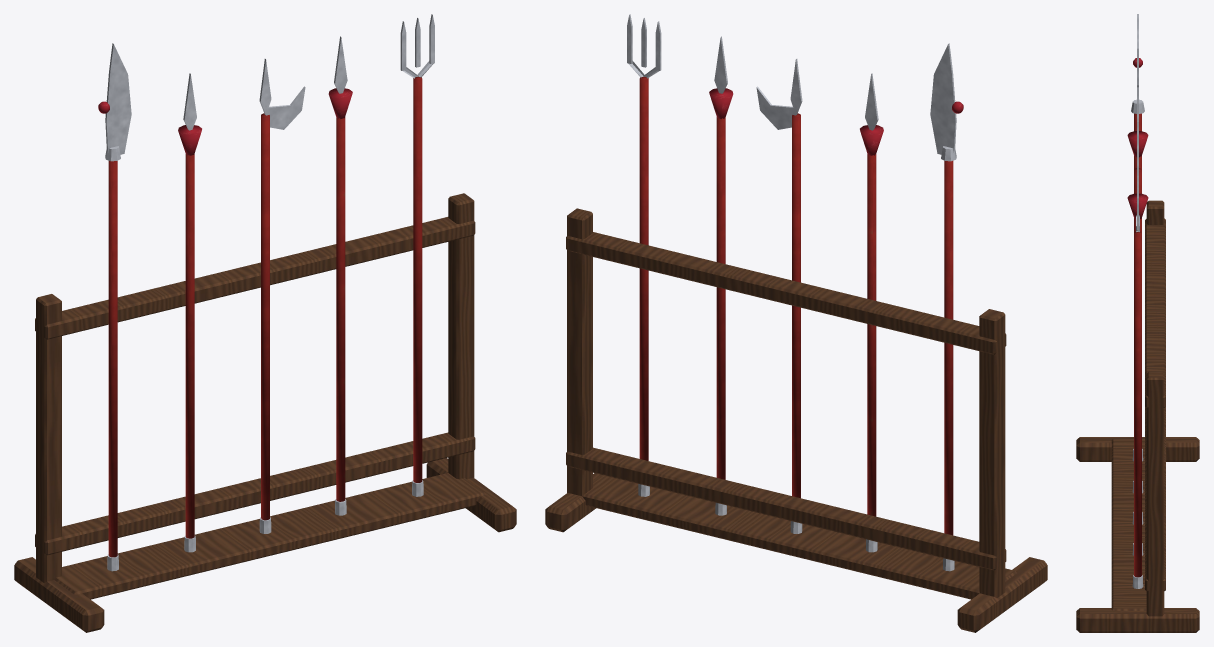
The model's file is halberd_rack.glb.
The picture shows the model from 3 angles, left to right: view 1: azimuth 30°, elevation 25°; view 2: azimuth 150°, elevation 25°; view 3: azimuth 270°, elevation 25°; orthographic projection. The views are drawn at different scales.
Visible parts, largest first — view 1: RackTimber, Shafts, Blades, Tassels; view 2: RackTimber, Shafts, Blades, Tassels; view 3: RackTimber, Shafts, Blades, Tassels.
Part boxes in pixels (x1,y1,x2,y2): RackTimber: (14, 193, 516, 632); Shafts: (108, 76, 422, 557); Blades: (105, 14, 434, 571); Tassels: (98, 88, 352, 155); RackTimber: (545, 208, 1047, 632); Shafts: (639, 76, 953, 535); Blades: (627, 14, 956, 571); Tassels: (709, 88, 963, 155); RackTimber: (1076, 200, 1199, 632); Shafts: (1134, 113, 1141, 577); Blades: (1131, 14, 1144, 588); Tassels: (1127, 58, 1148, 218).
Size of what is drawn, in the model's own units: 2.42 by 2.93 by 0.7.
Materials: 4 (4 with a texture image).
